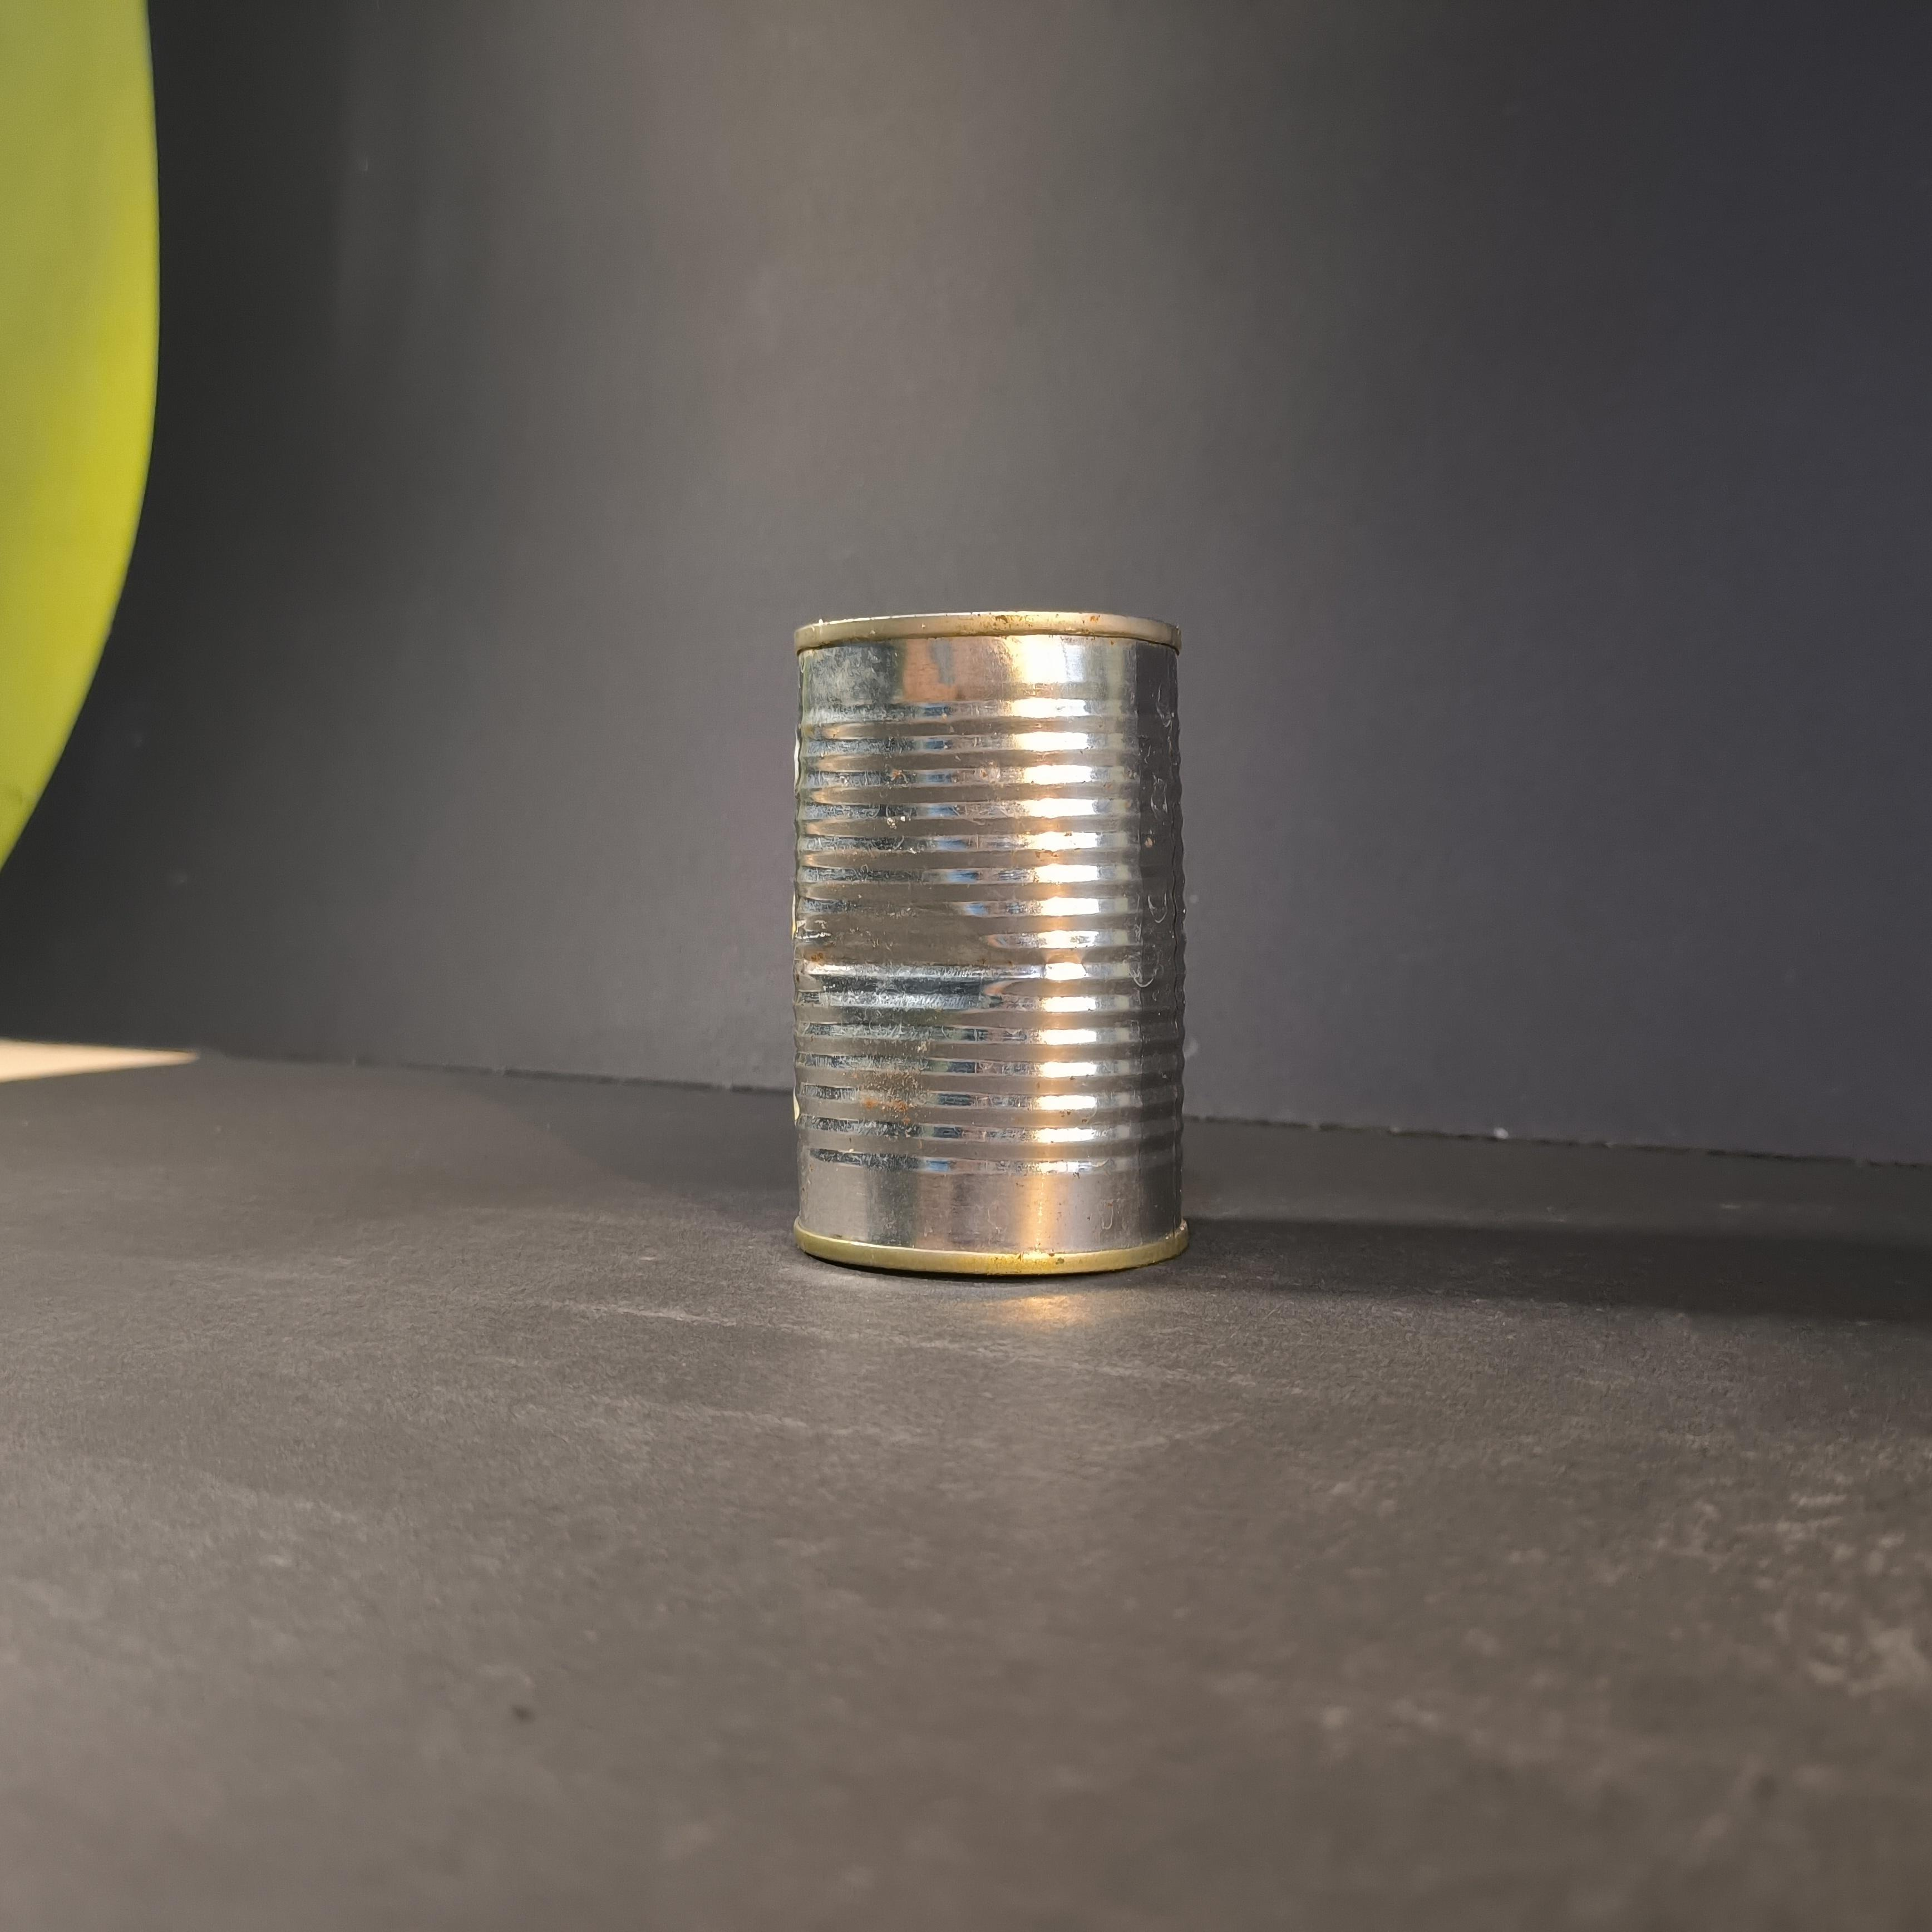Dented: (778, 573, 1214, 1297)
